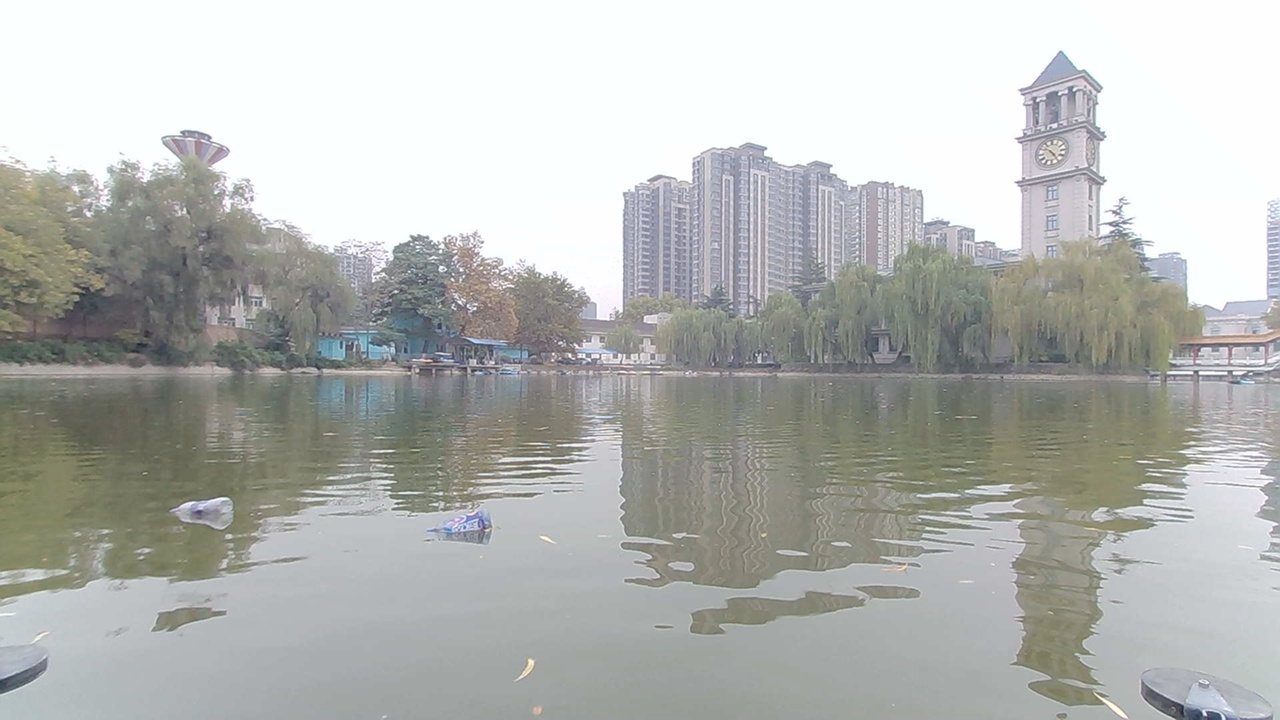bottle: (159, 476, 247, 542), (419, 488, 510, 546)
